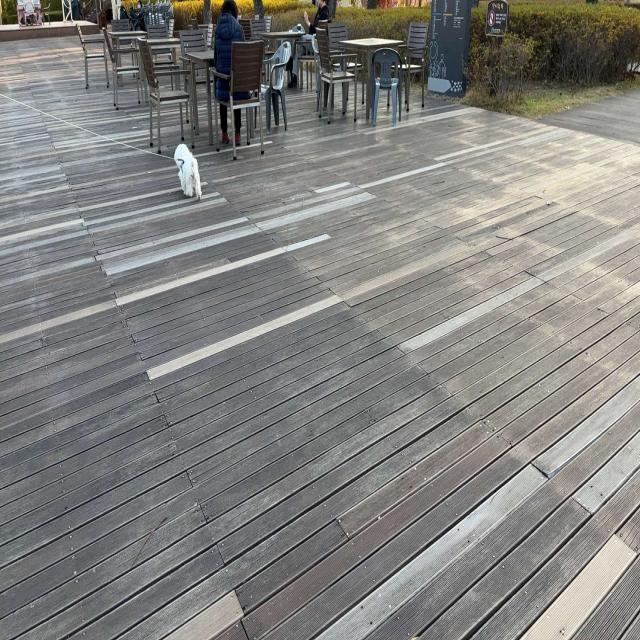Dog: (174, 142, 202, 199)
